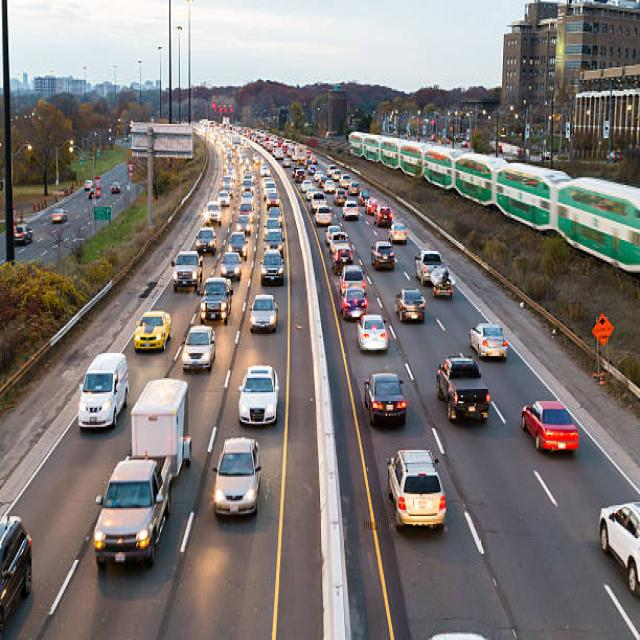Car: (386, 449, 446, 530), (212, 436, 262, 516), (598, 500, 639, 596), (0, 513, 32, 632), (520, 398, 579, 452), (238, 364, 280, 427), (363, 372, 407, 425), (181, 324, 215, 372), (133, 309, 171, 351), (469, 322, 507, 361), (356, 313, 388, 352), (394, 287, 426, 323), (249, 294, 277, 332), (12, 222, 32, 245), (50, 207, 67, 223), (109, 180, 120, 193)
MiniBus: (78, 352, 128, 428)
